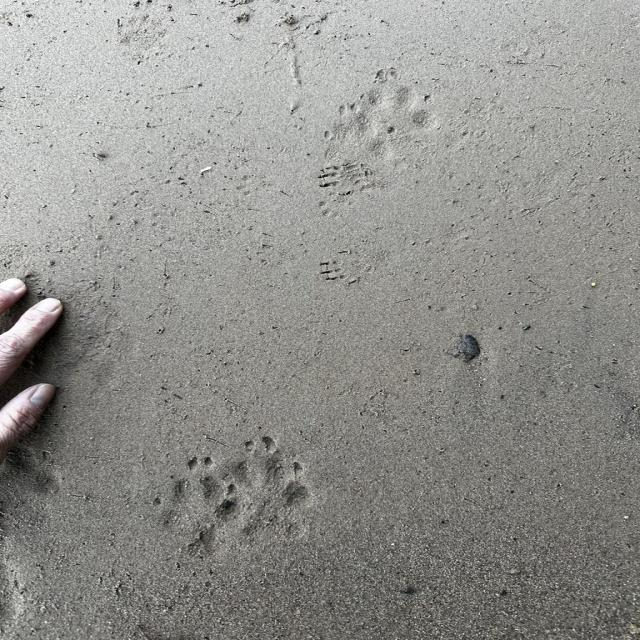canid: (220, 451, 315, 539), (155, 471, 242, 559), (352, 86, 432, 160)
